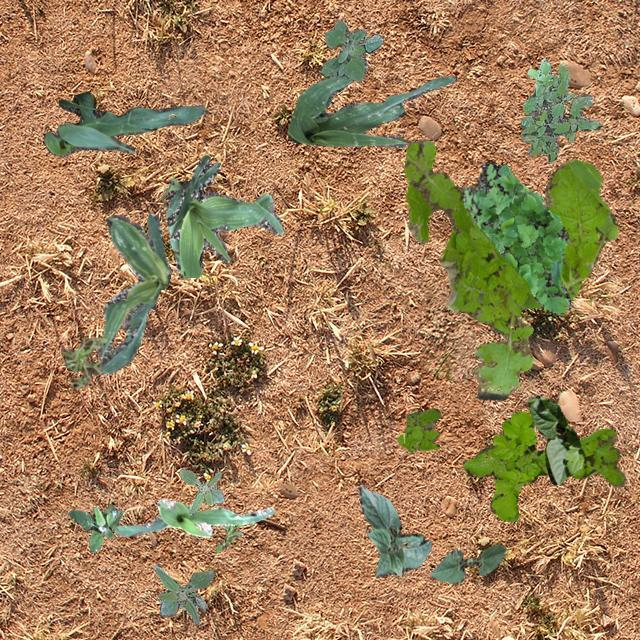crop: (164, 154, 282, 276), (286, 75, 456, 146), (96, 212, 170, 372), (42, 90, 205, 156), (356, 484, 429, 576), (112, 498, 274, 536), (526, 394, 584, 484), (430, 544, 504, 582)
weed: (402, 138, 618, 400), (462, 410, 624, 520), (462, 160, 570, 312), (520, 58, 600, 162), (320, 20, 382, 80), (153, 564, 214, 622), (67, 504, 121, 550), (60, 336, 106, 388), (180, 468, 222, 514), (396, 408, 439, 452), (214, 524, 242, 550)
